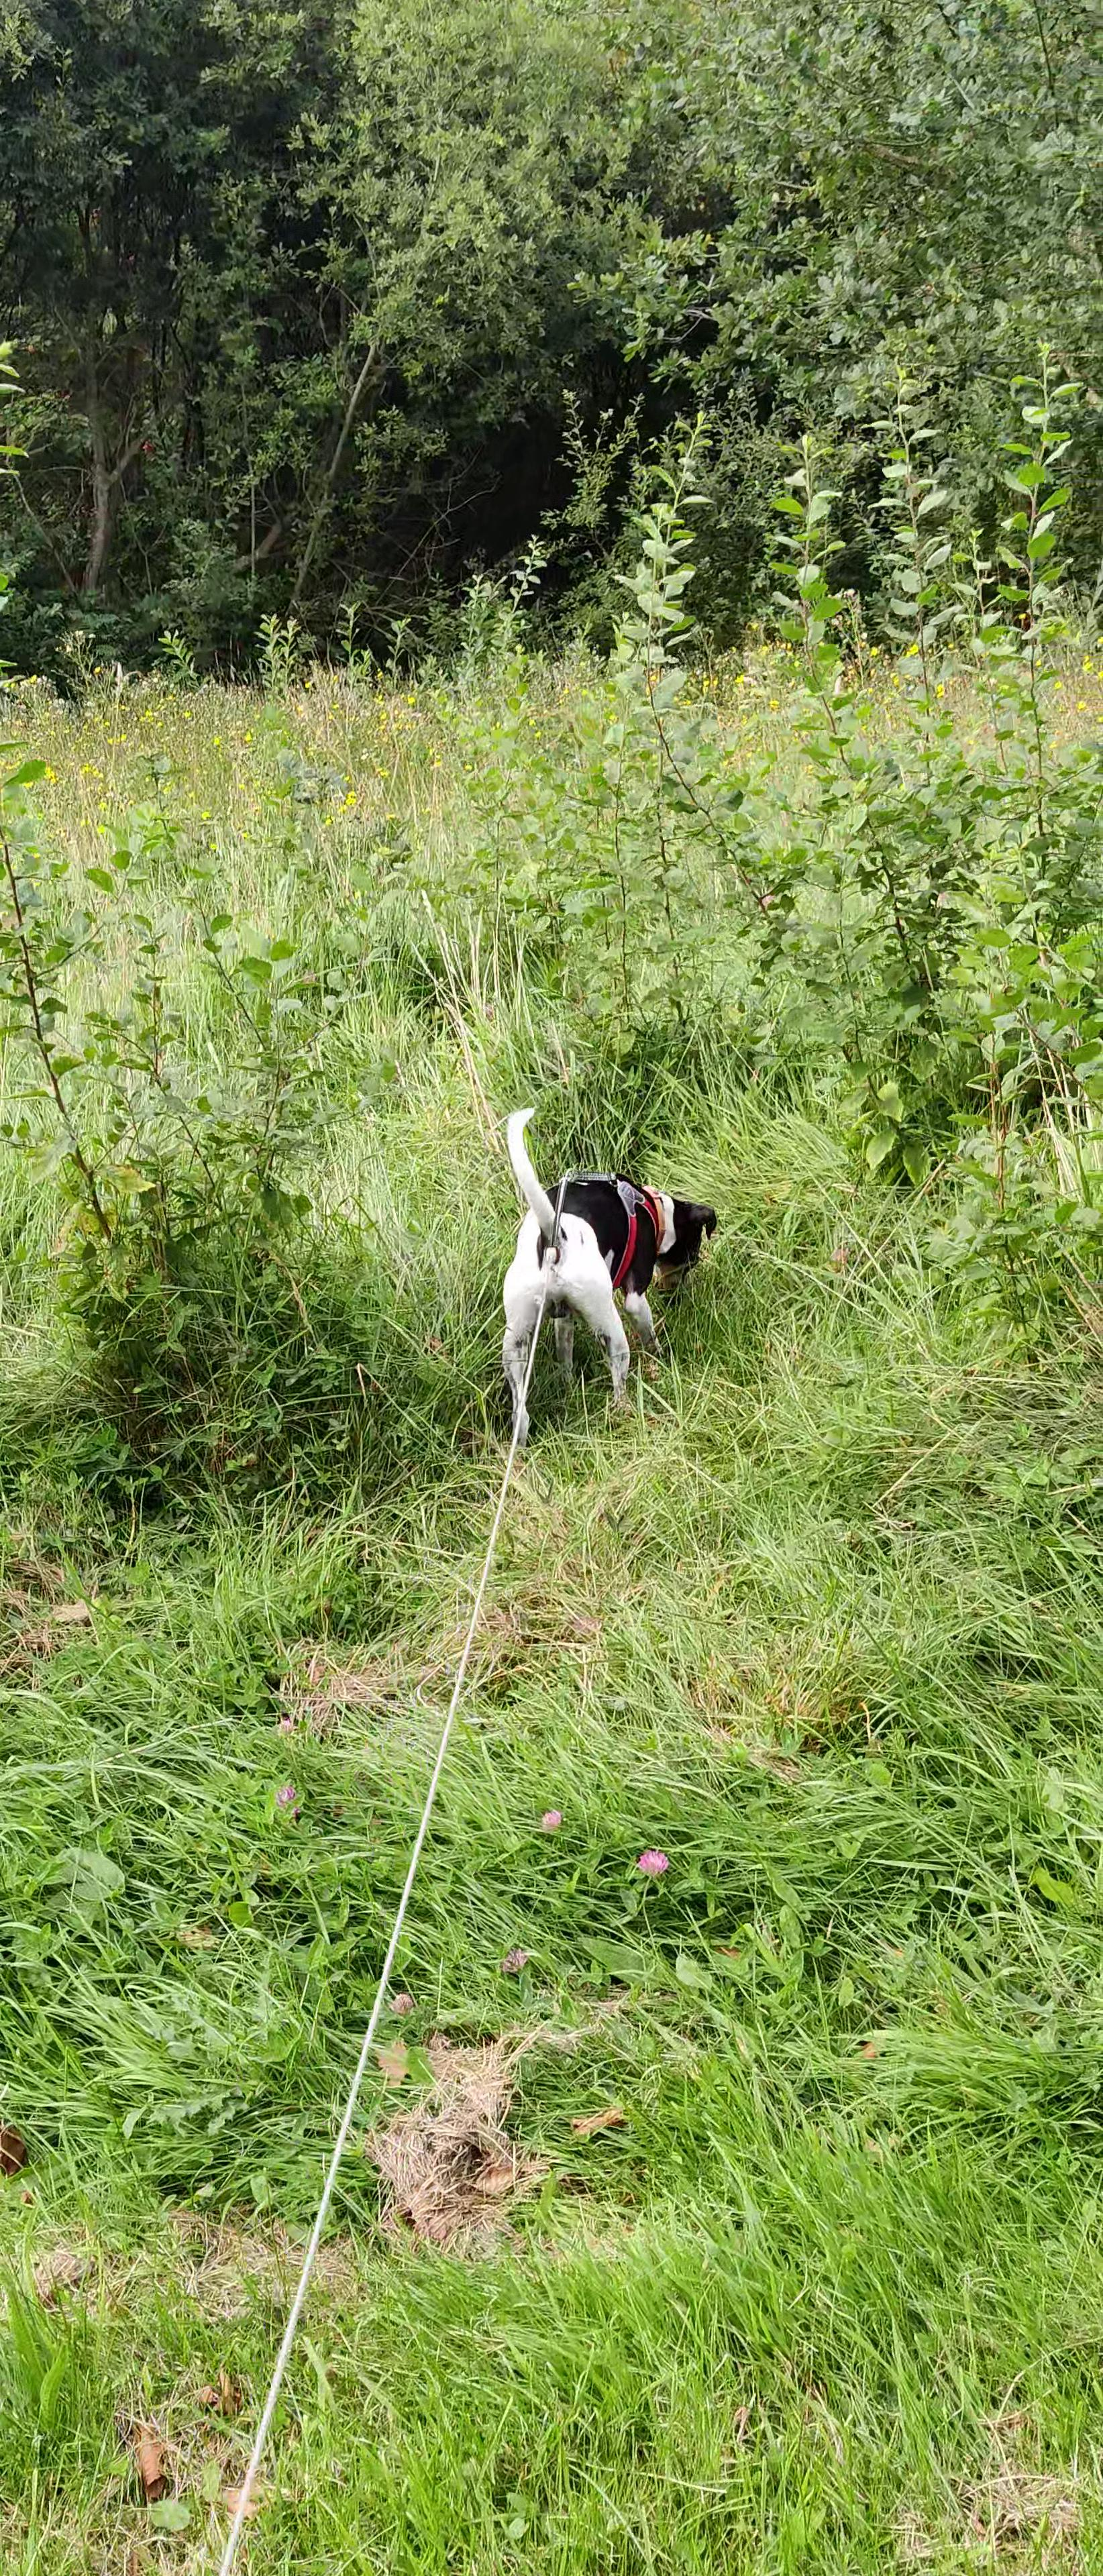Dog: (467, 1092, 728, 1460)
